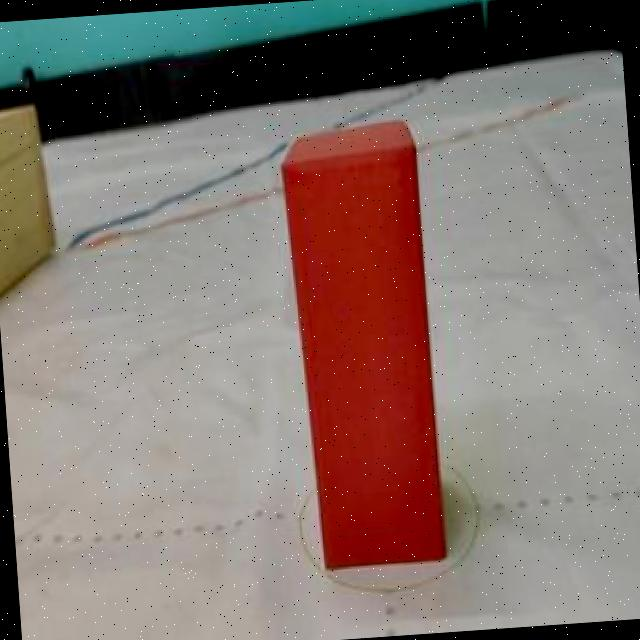redbox: (277, 115, 444, 572)
